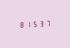eight: (18, 20, 24, 28)
five: (32, 20, 38, 27)
one: (25, 20, 31, 28)
seven: (46, 19, 52, 27)
three: (39, 19, 45, 27)
